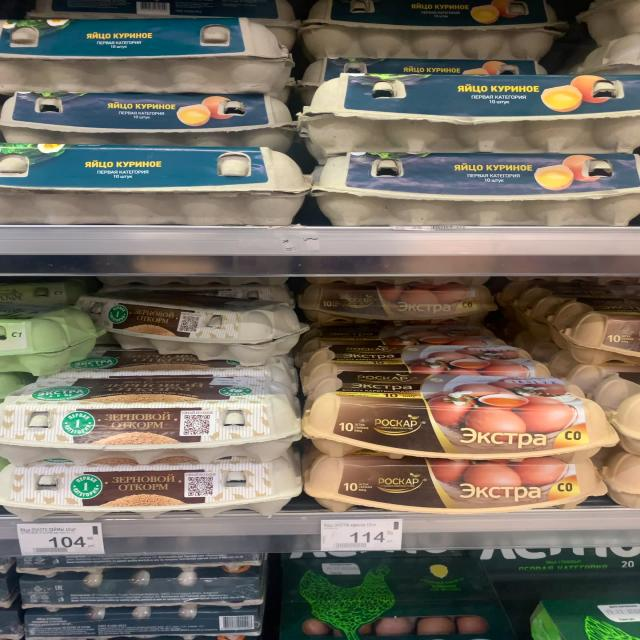egg box: (300, 368, 620, 460), (298, 67, 636, 150), (0, 379, 298, 461), (313, 151, 635, 225), (2, 146, 306, 222), (0, 14, 289, 93), (71, 283, 313, 367), (297, 446, 606, 510), (0, 88, 298, 152), (0, 457, 300, 518)
